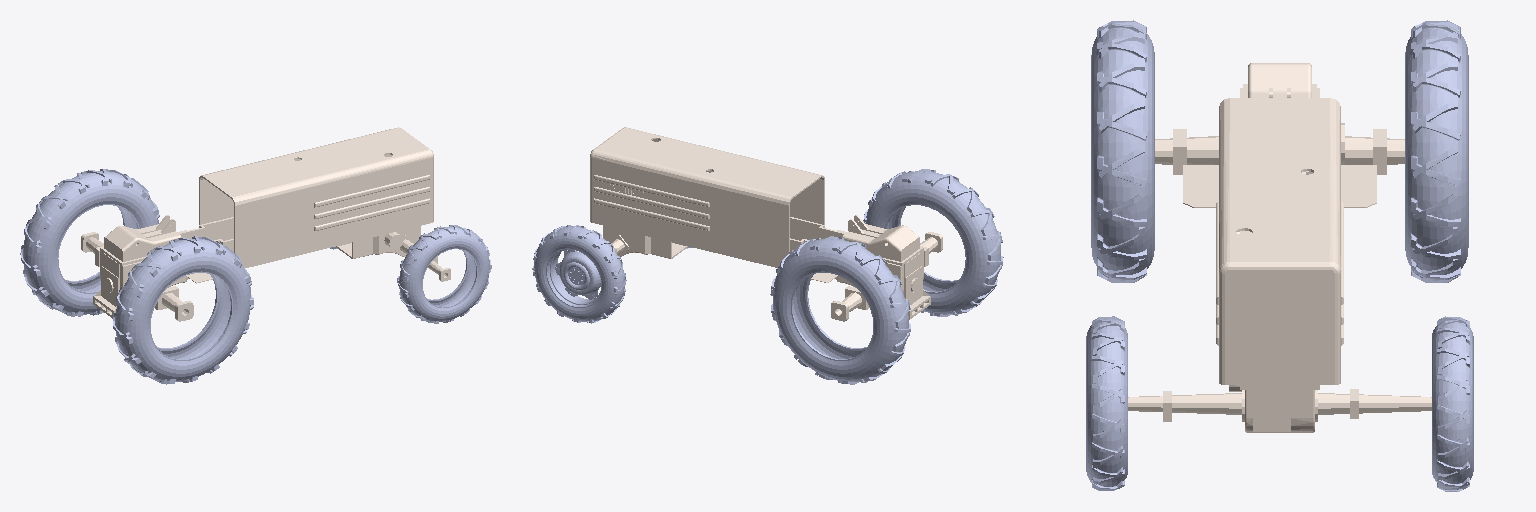
robot.urdf — tractor:
<?xml version="1.0" encoding="utf-8"?>
<!-- This URDF was automatically created by SolidWorks to URDF Exporter! Originally created by [author] ([email redacted]) 
     Commit Version: 1.6.0-4-g7f85cfe  Build Version: 1.6.7995.38578
     For more information, please see http://wiki.ros.org/sw_urdf_exporter -->
<robot
  name="tractor">
  <link
    name="base_link">
    <inertial>
      <origin
        xyz="-0.2755 0.11342 0.001141"
        rpy="0 0 0" />
      <mass
        value="3290" />
      <inertia
        ixx="1181.5"
        ixy="62.869"
        ixz="-8.3091"
        iyy="4421.1"
        iyz="-0.51188"
        izz="3804.1" />
    </inertial>
    <visual>
      <origin
        xyz="0 0 0"
        rpy="0 0 0" />
      <geometry>
        <mesh
          filename="package://tractor/meshes/base_link.STL" />
      </geometry>
      <material
        name="">
        <color
          rgba="1 0.94902 0.9098 1" />
      </material>
    </visual>
    <collision>
      <origin
        xyz="0 0 0"
        rpy="0 0 0" />
      <geometry>
        <mesh
          filename="package://tractor/meshes/base_link.STL" />
      </geometry>
    </collision>
  </link>
  <link
    name="FRONT_L">
    <inertial>
      <origin
        xyz="-0.2755 0.11342 0.001141"
        rpy="0 0 0" />
      <mass
        value="3290" />
      <inertia
        ixx="1181.5"
        ixy="62.869"
        ixz="-8.3091"
        iyy="4421.1"
        iyz="-0.51188"
        izz="3804.1" />
    </inertial>
    <visual>
      <origin
        xyz="0 0 0"
        rpy="0 0 0" />
      <geometry>
        <mesh
          filename="package://tractor/meshes/FRONT_L.STL" />
      </geometry>
      <material
        name="">
        <color
          rgba="0.79216 0.81961 0.93333 1" />
      </material>
    </visual>
    <collision>
      <origin
        xyz="0 0 0"
        rpy="0 0 0" />
      <geometry>
        <mesh
          filename="package://tractor/meshes/FRONT_L.STL" />
      </geometry>
    </collision>
  </link>
  <joint
    name="Front1"
    type="continuous">
    <origin
      xyz="1.6143 0.81922 -0.13999"
      rpy="-1.5708 0 0" />
    <parent
      link="base_link" />
    <child
      link="FRONT_L" />
    <axis
      xyz="0 0 -1" />
    <limit
      lower="-3.14"
      upper="3.14"
      effort="10"
      velocity="1" />
  </joint>
  <link
    name="FRONT_R">
    <inertial>
      <origin
        xyz="-0.2755 0.11342 0.001141"
        rpy="0 0 0" />
      <mass
        value="3290" />
      <inertia
        ixx="1181.5"
        ixy="62.869"
        ixz="-8.3091"
        iyy="4421.1"
        iyz="-0.51188"
        izz="3804.1" />
    </inertial>
    <visual>
      <origin
        xyz="0 0 0"
        rpy="0 0 0" />
      <geometry>
        <mesh
          filename="package://tractor/meshes/FRONT_R.STL" />
      </geometry>
      <material
        name="">
        <color
          rgba="0.79216 0.81961 0.93333 1" />
      </material>
    </visual>
    <collision>
      <origin
        xyz="0 0 0"
        rpy="0 0 0" />
      <geometry>
        <mesh
          filename="package://tractor/meshes/FRONT_R.STL" />
      </geometry>
    </collision>
  </link>
  <joint
    name="Front2"
    type="continuous">
    <origin
      xyz="1.6143 -0.81922 -0.13999"
      rpy="-1.5708 0 0" />
    <parent
      link="base_link" />
    <child
      link="FRONT_R" />
    <axis
      xyz="0 0 1" />
    <limit
      lower="-3.14"
      upper="3.14"
      effort="10"
      velocity="1" />
  </joint>
  <link
    name="REAR_L">
    <inertial>
      <origin
        xyz="-0.2755 0.11342 0.001141"
        rpy="0 0 0" />
      <mass
        value="3290" />
      <inertia
        ixx="1181.5"
        ixy="62.869"
        ixz="-8.3091"
        iyy="4421.1"
        iyz="-0.51188"
        izz="3804.1" />
    </inertial>
    <visual>
      <origin
        xyz="0 0 0"
        rpy="0 0 0" />
      <geometry>
        <mesh
          filename="package://tractor/meshes/REAR_L.STL" />
      </geometry>
      <material
        name="">
        <color
          rgba="0.79216 0.81961 0.93333 1" />
      </material>
    </visual>
    <collision>
      <origin
        xyz="0 0 0"
        rpy="0 0 0" />
      <geometry>
        <mesh
          filename="package://tractor/meshes/REAR_L.STL" />
      </geometry>
    </collision>
  </link>
  <joint
    name="Rear1"
    type="continuous">
    <origin
      xyz="-0.65 0.77 0.055"
      rpy="-1.5708 0 0" />
    <parent
      link="base_link" />
    <child
      link="REAR_L" />
    <axis
      xyz="0 0 -1" />
    <limit
      lower="-3.14"
      upper="3.14"
      effort="10"
      velocity="1" />
  </joint>
  <link
    name="REAR_R">
    <inertial>
      <origin
        xyz="-0.2755 0.11342 0.001141"
        rpy="0 0 0" />
      <mass
        value="3290" />
      <inertia
        ixx="1181.5"
        ixy="62.869"
        ixz="-8.3091"
        iyy="4421.1"
        iyz="-0.51188"
        izz="3804.1" />
    </inertial>
    <visual>
      <origin
        xyz="0 0 0"
        rpy="0 0 0" />
      <geometry>
        <mesh
          filename="package://tractor/meshes/REAR_R.STL" />
      </geometry>
      <material
        name="">
        <color
          rgba="0.79216 0.81961 0.93333 1" />
      </material>
    </visual>
    <collision>
      <origin
        xyz="0 0 0"
        rpy="0 0 0" />
      <geometry>
        <mesh
          filename="package://tractor/meshes/REAR_R.STL" />
      </geometry>
    </collision>
  </link>
  <joint
    name="Rear2"
    type="continuous">
    <origin
      xyz="-0.65 -0.77 0.055"
      rpy="-1.5708 0 0" />
    <parent
      link="base_link" />
    <child
      link="REAR_R" />
    <axis
      xyz="0 0 1" />
    <limit
      lower="-3.14"
      upper="3.14"
      effort="10"
      velocity="1" />
  </joint>
</robot>

--- What the picture shows (computed from the rendered views, not written in the file) ---
Views: 3 orthographic renders of the robot side by side, from view 1: azimuth 30°, elevation 25°; view 2: azimuth 150°, elevation 25°; view 3: azimuth 270°, elevation 25°.
Model tractor with 5 links and 4 joints (4 continuous), rooted at base_link, posed all joints at 0.
Links seen in each view (by area): view 1: base_link, REAR_R, REAR_L, FRONT_R; view 2: base_link, REAR_L, REAR_R, FRONT_L; view 3: base_link, REAR_L, REAR_R, FRONT_L, FRONT_R.
Link boxes in pixels (bbox=[...]): base_link: bbox=[81, 127, 450, 321]; REAR_R: bbox=[113, 236, 253, 384]; REAR_L: bbox=[20, 169, 159, 316]; FRONT_R: bbox=[397, 225, 491, 323]; base_link: bbox=[590, 127, 942, 321]; REAR_L: bbox=[770, 236, 910, 384]; REAR_R: bbox=[863, 169, 1003, 316]; FRONT_L: bbox=[532, 225, 626, 323]; base_link: bbox=[1128, 63, 1431, 432]; REAR_L: bbox=[1405, 20, 1468, 282]; REAR_R: bbox=[1091, 20, 1154, 282]; FRONT_L: bbox=[1432, 316, 1473, 491]; FRONT_R: bbox=[1086, 316, 1127, 490].
Size in the robot's own frame: 3.25 by 1.74 by 1.18 metres.
5 mesh visuals loaded from 5 distinct referenced files (5 binary STL).